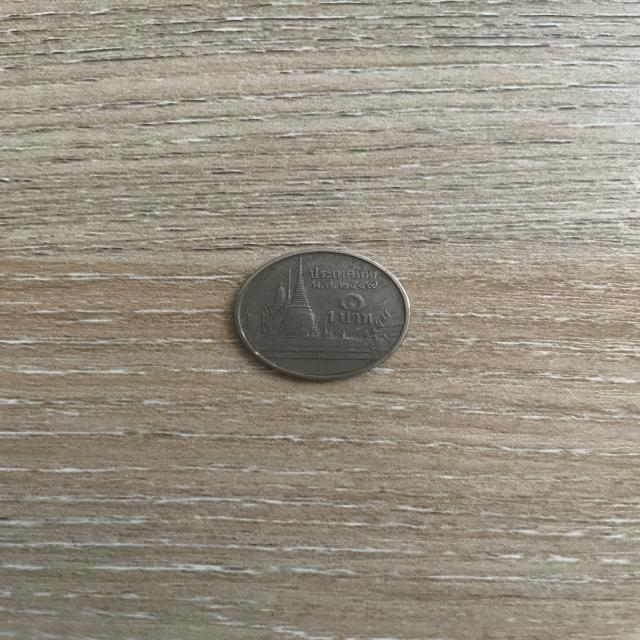1 Bath: (226, 244, 415, 389)
